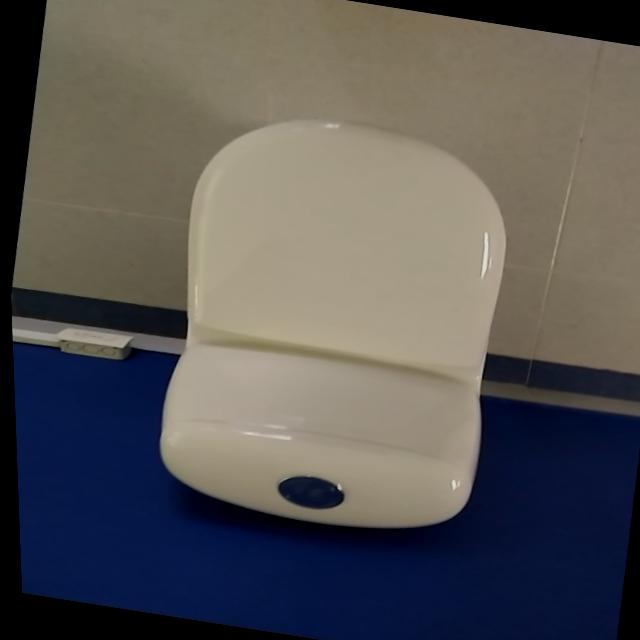toilet: (135, 99, 531, 549)
